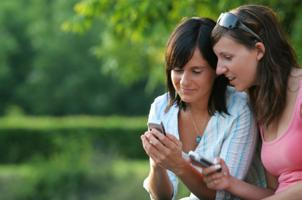person: (141, 17, 268, 199)
